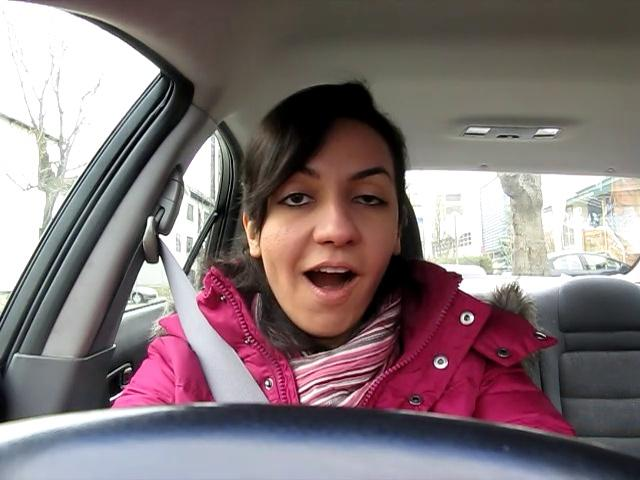close_eyeL: (268, 183, 328, 219)
close_eyeR: (338, 188, 402, 219)
yawn: (281, 255, 373, 305)
